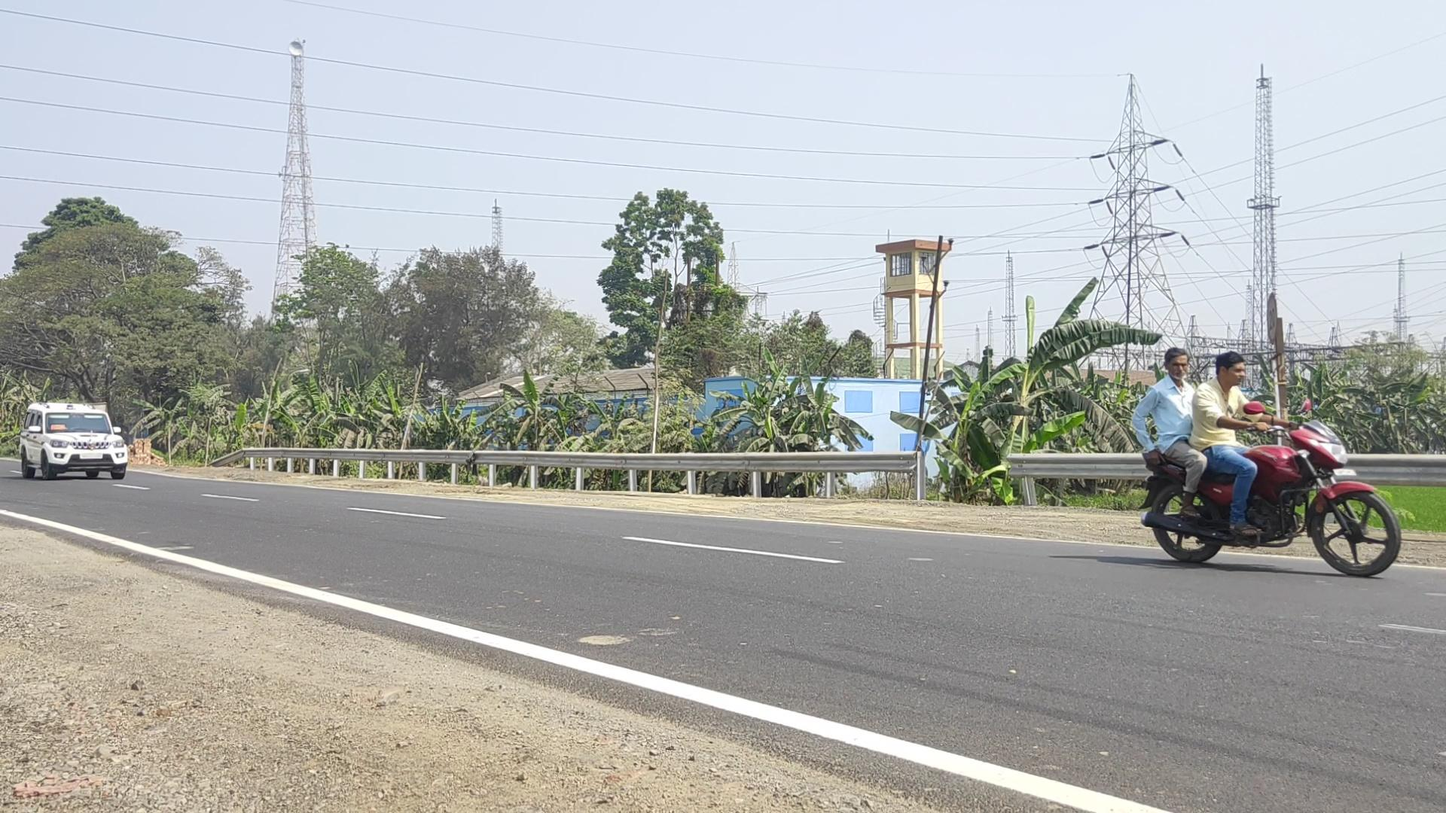bike: (1132, 347, 1401, 577)
car: (19, 402, 128, 480)
